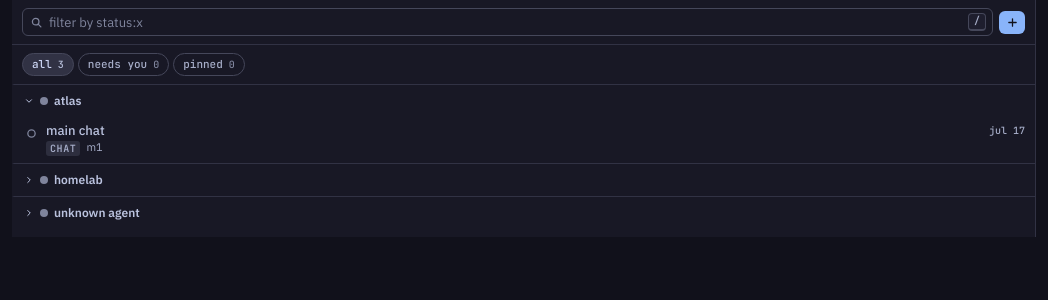
Test: sessions of an unknown agent render in a trailing group
What coordinates should you click on to do the following:
click the button named "unknown agent"
I would click on:
 (26, 213)
Its box is [14, 197, 38, 229].
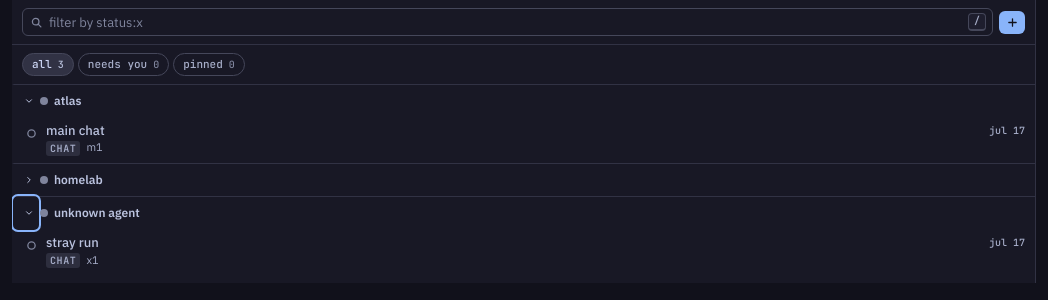
Now the button "stray run jul 17 chat x1" is shown, box [12, 229, 1035, 275]
